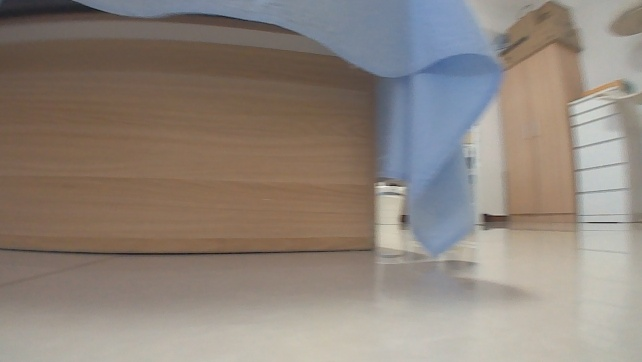bed1: (0, 0, 497, 251)
